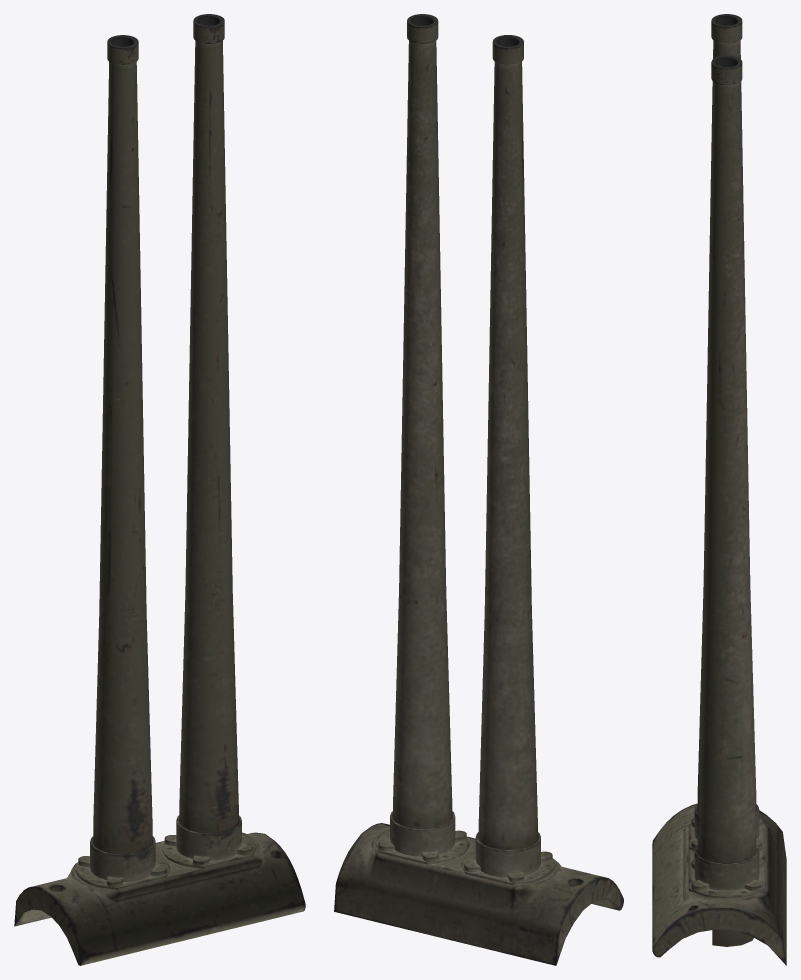
The model's file is Gun_02.glb.
The picture shows the model from 3 angles, left to right: view 1: azimuth 30°, elevation 25°; view 2: azimuth 150°, elevation 25°; view 3: azimuth 270°, elevation 25°; orthographic projection.
Parts seen in each view (by area): view 1: set_0_group_0; view 2: set_0_group_0; view 3: set_0_group_0.
Part boxes in pixels (x1,y1,x2,y2): set_0_group_0: [14, 14, 305, 965]; set_0_group_0: [334, 14, 623, 965]; set_0_group_0: [652, 14, 786, 965].
Bounding box in the file's own units: 1.14 × 4.33 × 0.6007.
Materials: 1 (1 with a texture image).
